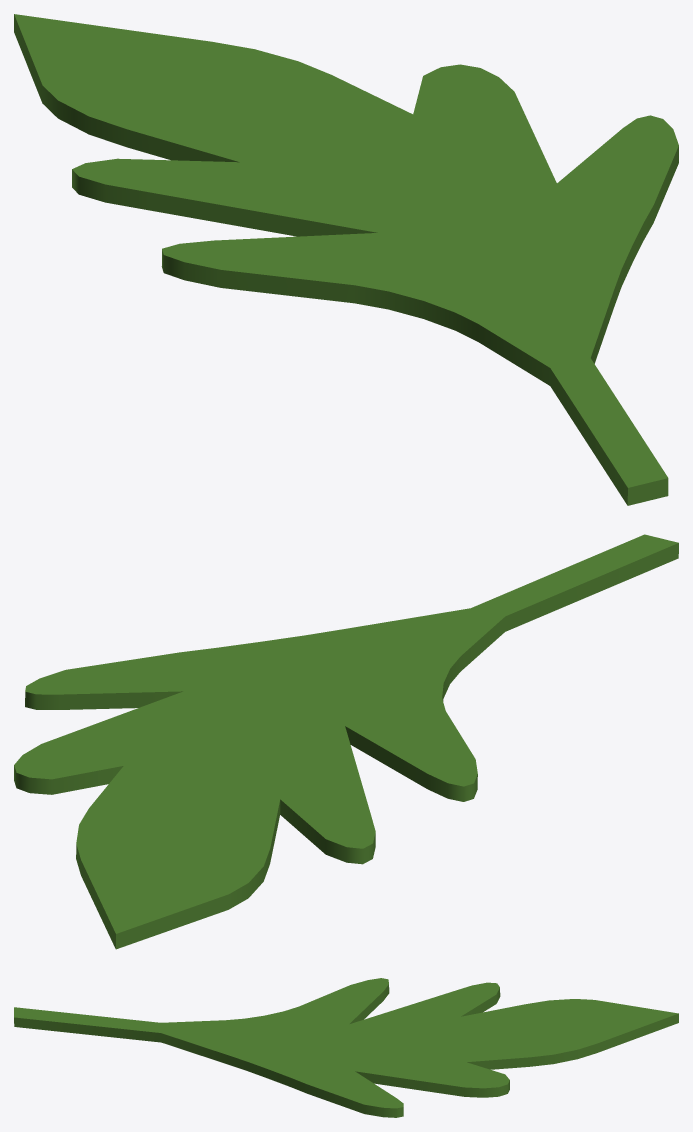
File: Arugula Leaf B.fbx
The picture shows the model from 3 angles, top to bottom: view 1: azimuth 30°, elevation 25°; view 2: azimuth 150°, elevation 25°; view 3: azimuth 270°, elevation 25°; orthographic projection. The views are drawn at different scales.
Parts seen in each view (by area): view 1: Arugula Leaf B; view 2: Arugula Leaf B; view 3: Arugula Leaf B.
Boxes of the visible parts, x1,y1,x2,y2 form: Arugula Leaf B: (14,14,678,505); Arugula Leaf B: (14,534,678,949); Arugula Leaf B: (14,978,678,1117).
Size of the model in its own units: 0.2946 by 0.011 by 0.6346.
